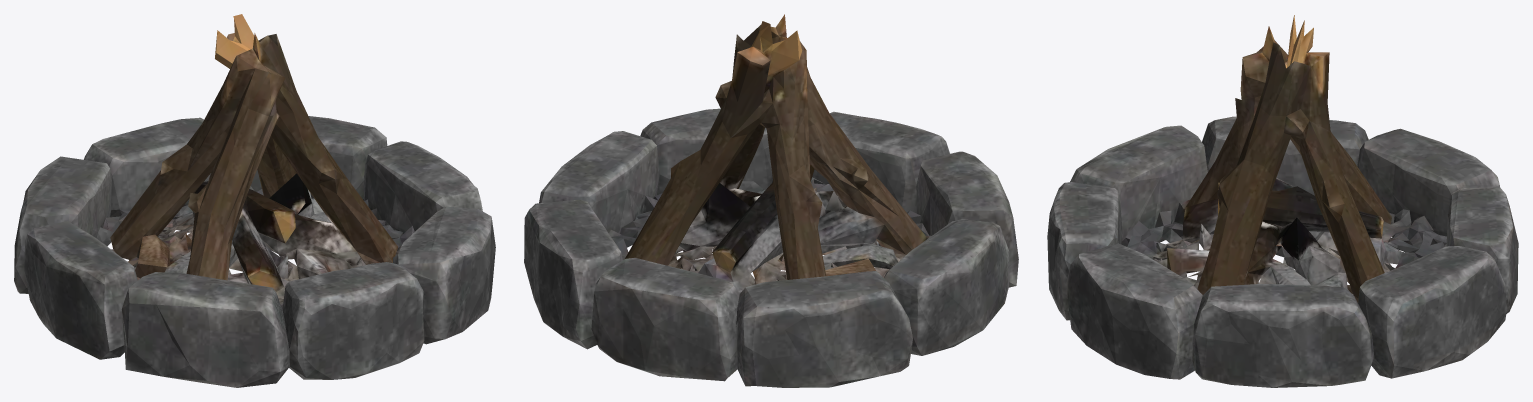
Rendered from logs.glb.
The picture shows the model from 3 angles, left to right: view 1: azimuth 30°, elevation 25°; view 2: azimuth 150°, elevation 25°; view 3: azimuth 270°, elevation 25°; orthographic projection. The views are drawn at different scales.
Visible parts, largest first — view 1: logs; view 2: logs; view 3: logs.
Boxes of the visible parts, bbox=[...] form: logs: bbox=[14, 14, 495, 387]; logs: bbox=[524, 14, 1018, 387]; logs: bbox=[1047, 15, 1518, 387].
Bounding box in the file's own units: 0.7025 × 0.4499 × 0.7074.
1 material, 1 textured.
